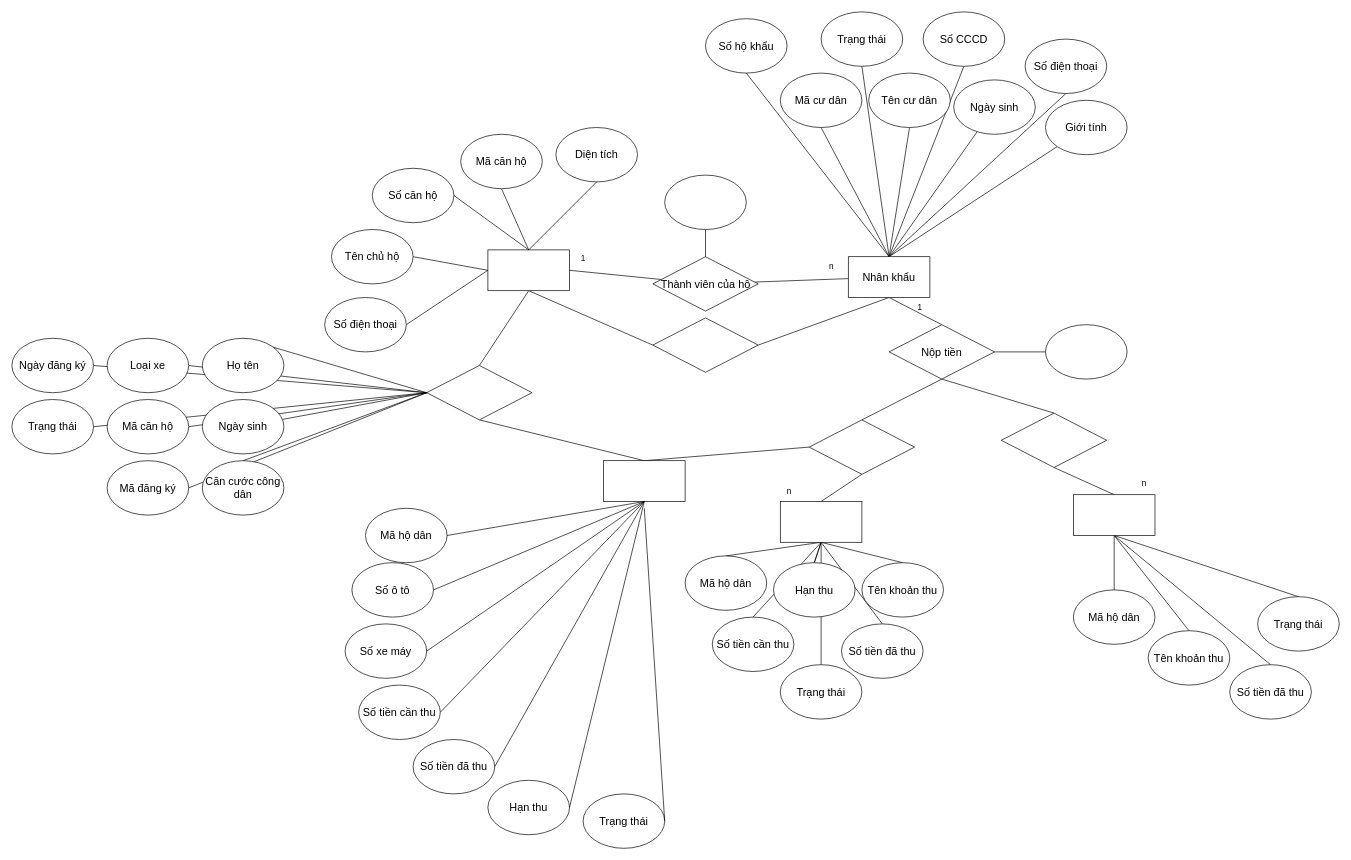
Some shapes in this 1351 by 860 pixel diagram are drawn without their labels. The centre of each missing label's shape, as x and y in pixels:
Bắt buộc: the point at 862,446
Chủ hộ: the point at 705,344
Hạn nộp: the point at 1086,351
Hộ khẩu: the point at 528,270
Khoản thu bắt buộc: the point at 821,521
Khoản thu tự nguyện: the point at 1114,515
Quan hệ với chủ hộ: the point at 705,202
Trông xe: the point at 644,481
Tự nguyện: the point at 1054,440
Đăng ký: the point at 479,392
